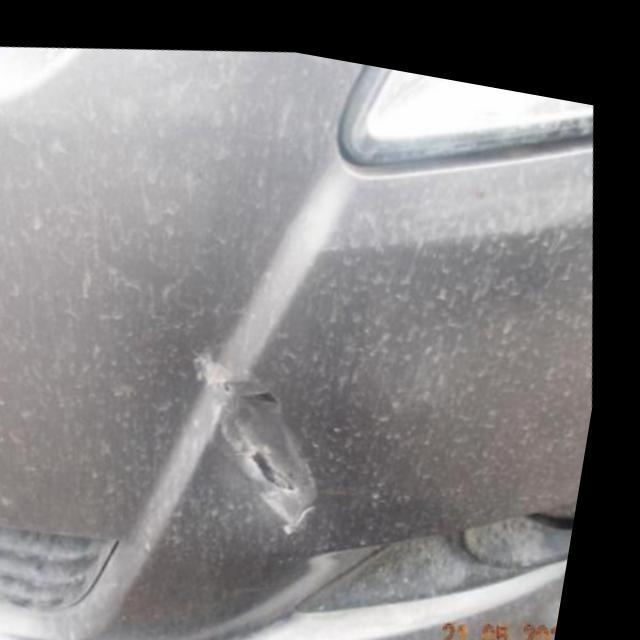scratch: (210, 335, 342, 528)
